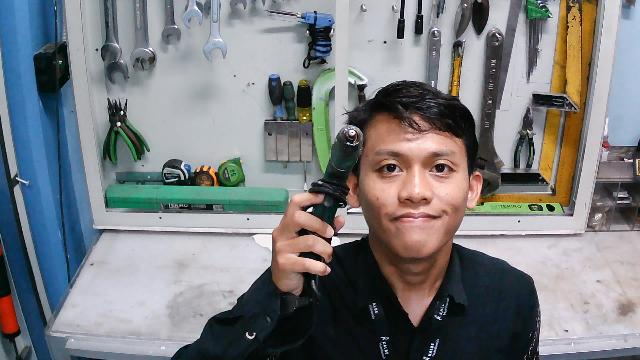gun_lem: (272, 117, 367, 280)
